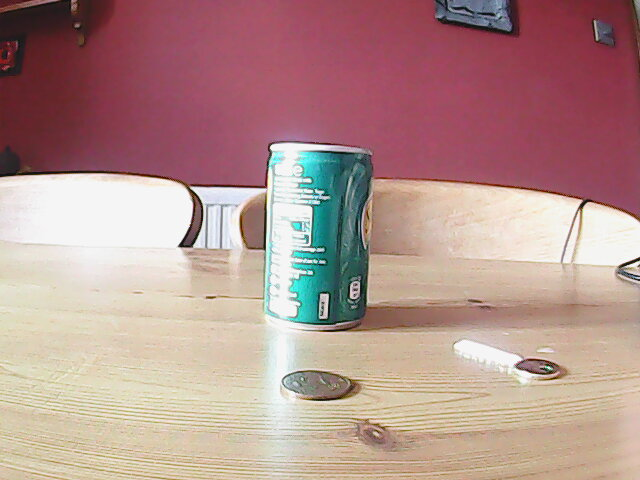Can: (258, 138, 379, 336)
Coin: (282, 368, 354, 401)
Key: (443, 333, 563, 385)
